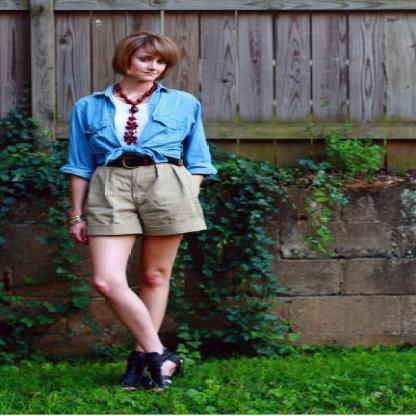shirt: (63, 91, 211, 177), (112, 95, 147, 146)
shoe: (128, 352, 201, 390)
shorts: (74, 162, 206, 249)
